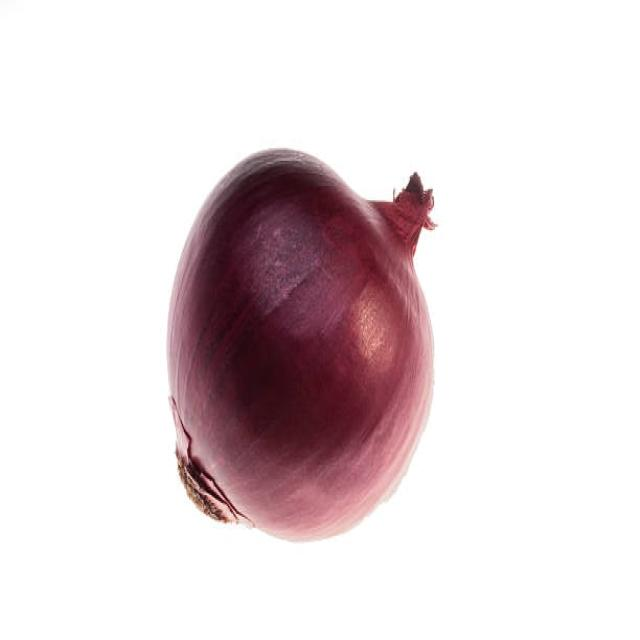onion: (158, 145, 442, 548)
